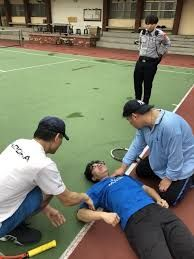fall: (77, 154, 194, 258)
